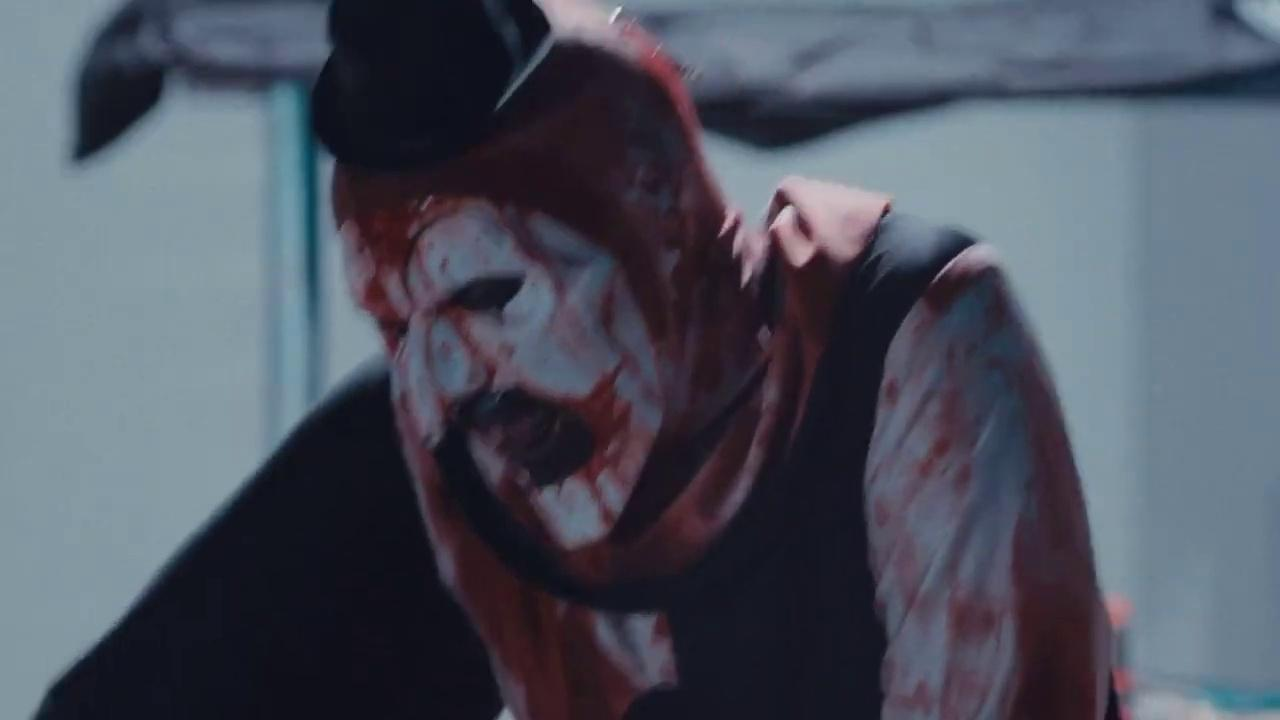Fire: (334, 22, 890, 718), (866, 244, 1109, 718)
